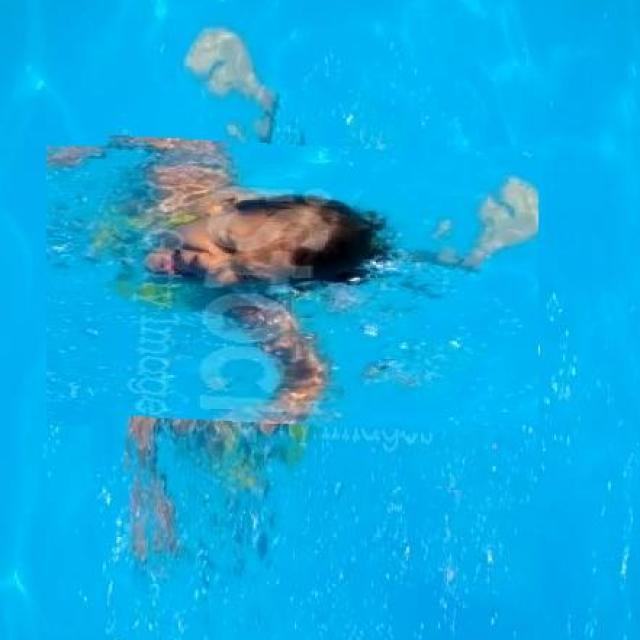Drowning: (49, 134, 433, 330)
